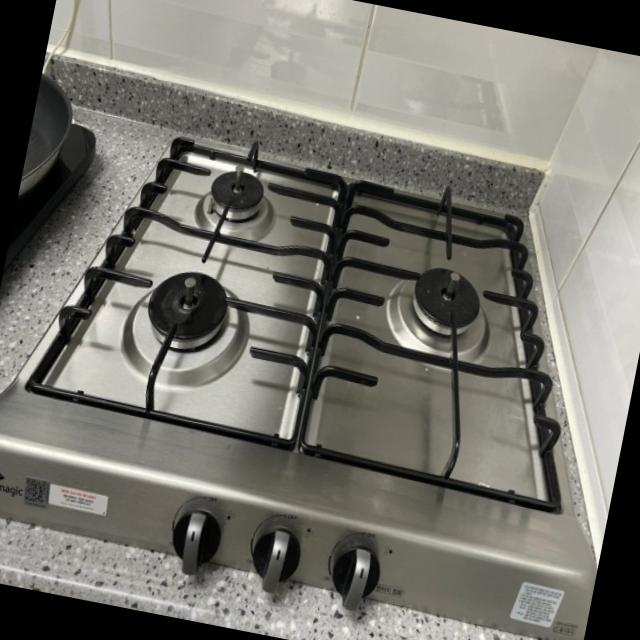knob_OFF: (363, 236, 566, 425), (106, 238, 293, 385), (161, 141, 326, 258)
